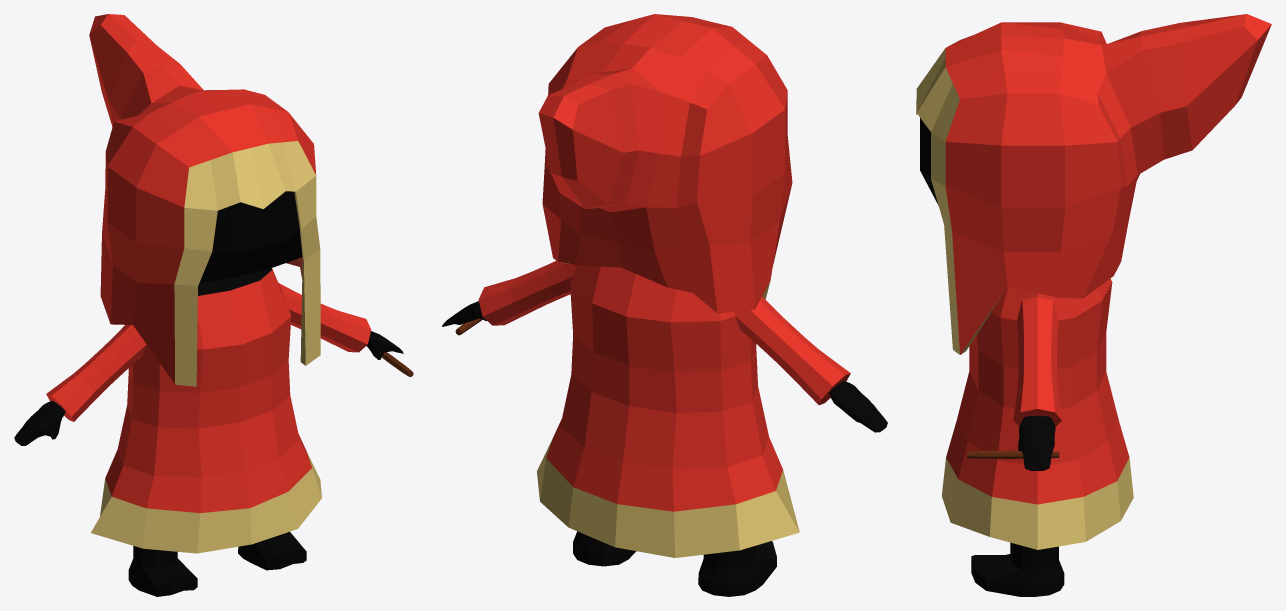
Rendered from MinionPdj.fbx.
3 views of the same model, side by side, from view 1: azimuth 30°, elevation 25°; view 2: azimuth 150°, elevation 25°; view 3: azimuth 270°, elevation 25° (orthographic). The views are drawn at different scales.
Visible parts, largest first — view 1: Personagem; view 2: Personagem; view 3: Personagem.
Boxes of the visible parts, bbox=[...] form: Personagem: bbox=[14, 14, 413, 596]; Personagem: bbox=[442, 14, 887, 596]; Personagem: bbox=[916, 14, 1271, 596].
Bounding box in the file's own units: 110 × 133 × 80.
